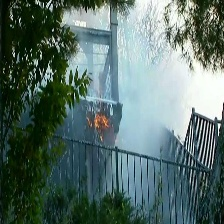fire: (86, 111, 114, 132)
smoke: (71, 9, 206, 212)
